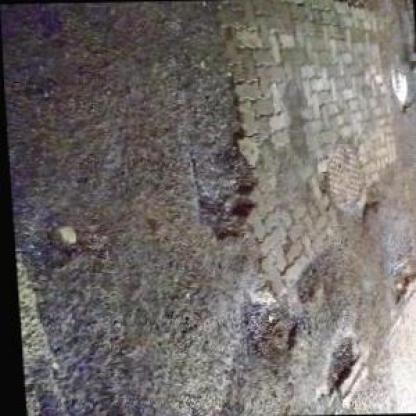pothole: (179, 62, 262, 242), (233, 282, 298, 364), (318, 337, 355, 395), (380, 250, 415, 305), (386, 70, 414, 112), (292, 262, 321, 301)
